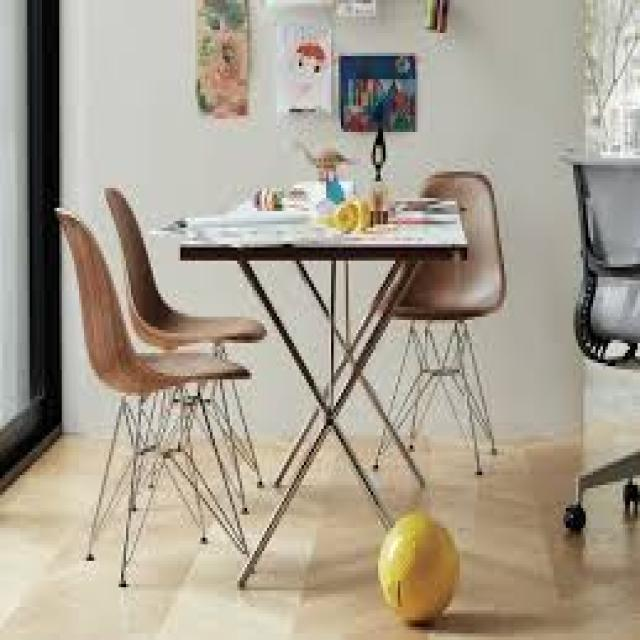chair: (38, 191, 264, 610), (68, 172, 280, 554), (335, 148, 532, 502), (548, 143, 640, 551)
